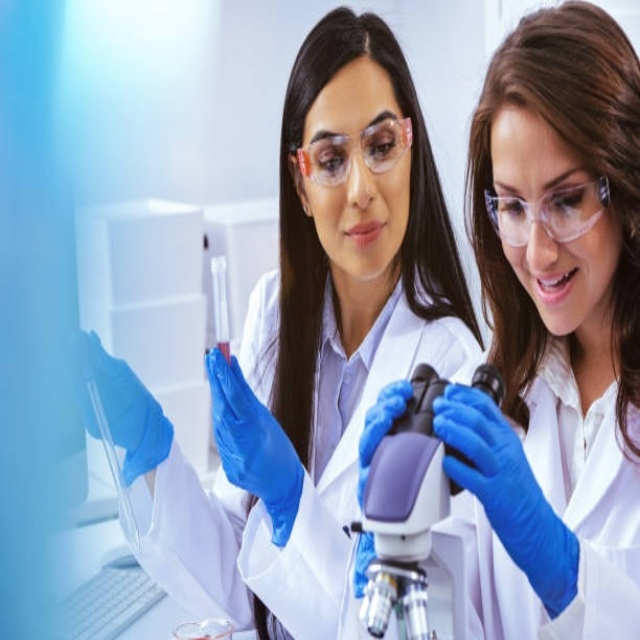Gafas: (485, 173, 610, 247), (294, 117, 413, 186)
Guantes: (434, 375, 579, 604), (202, 344, 301, 546), (74, 326, 174, 493), (355, 364, 415, 486)
Sin_mascara: (523, 257, 585, 326), (334, 207, 392, 268)
